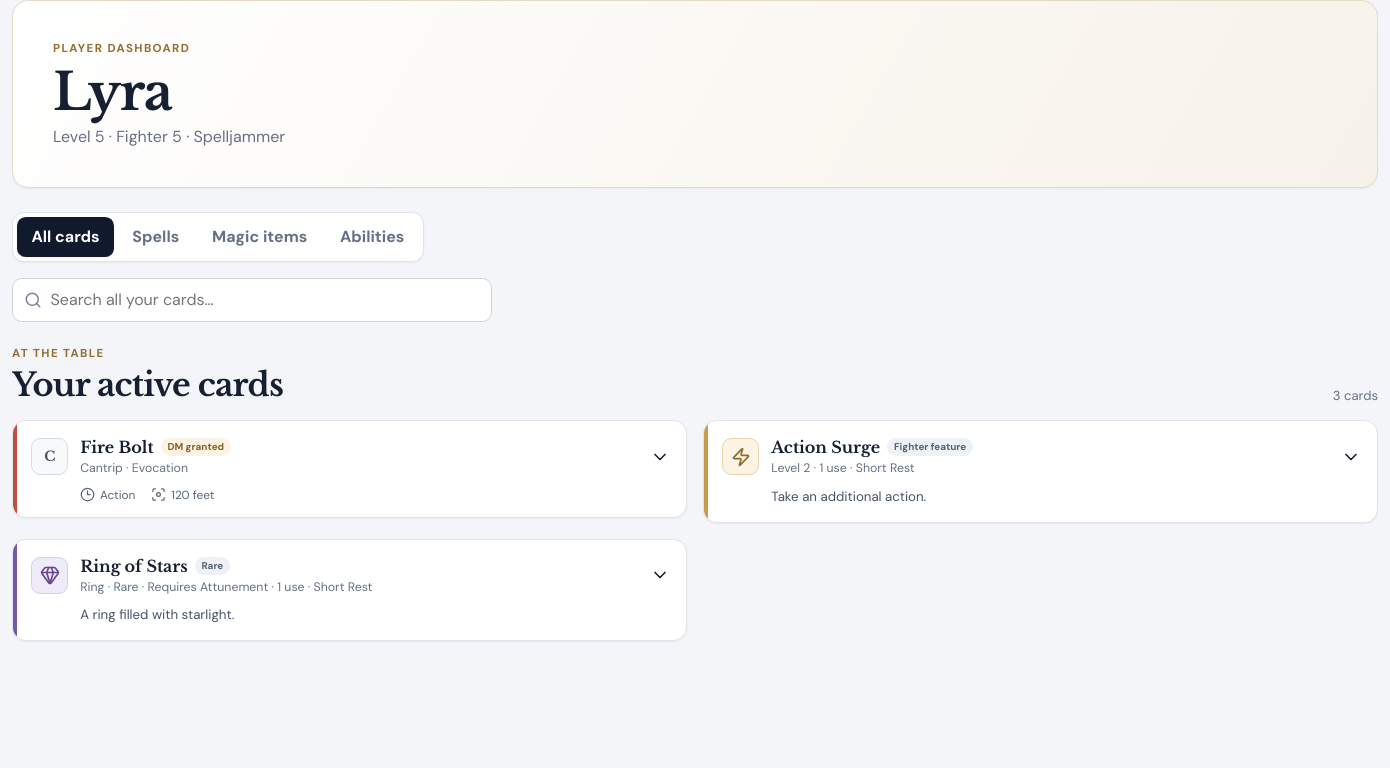
Test: PlayerDashboard card search › offers search on every card tab and filters the combined view
The width and height of the screenshot is (1390, 768).
Type "astral captain" into the field named "Search all cards" at point(252, 300), box [12,278,492,322]
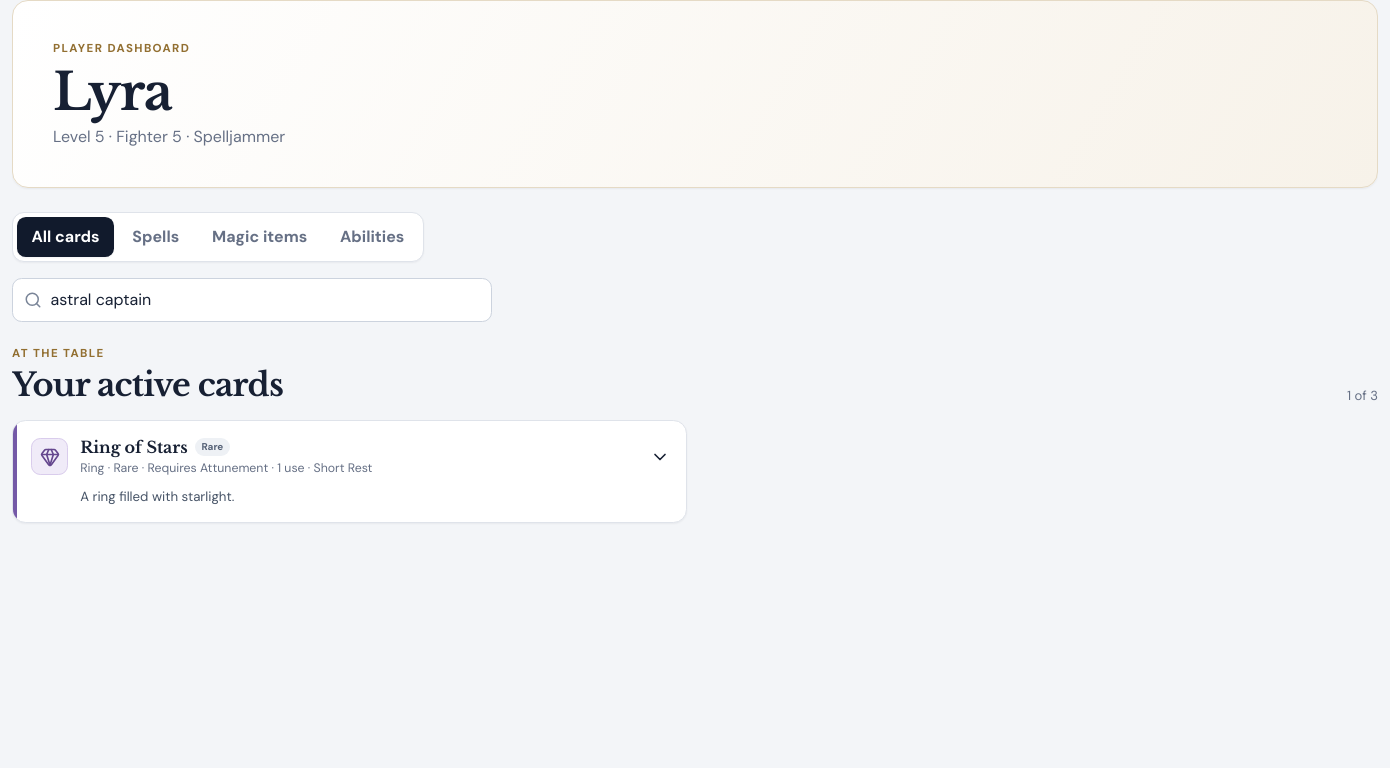
Check: the text "Ring of Stars" is shown, box [80,437,188,457]
Check: the button "Fire Bolt" is gone
Check: the button "Action Surge" is gone
Click the tab "Spells" at point(156, 237), box [118,217,194,257]
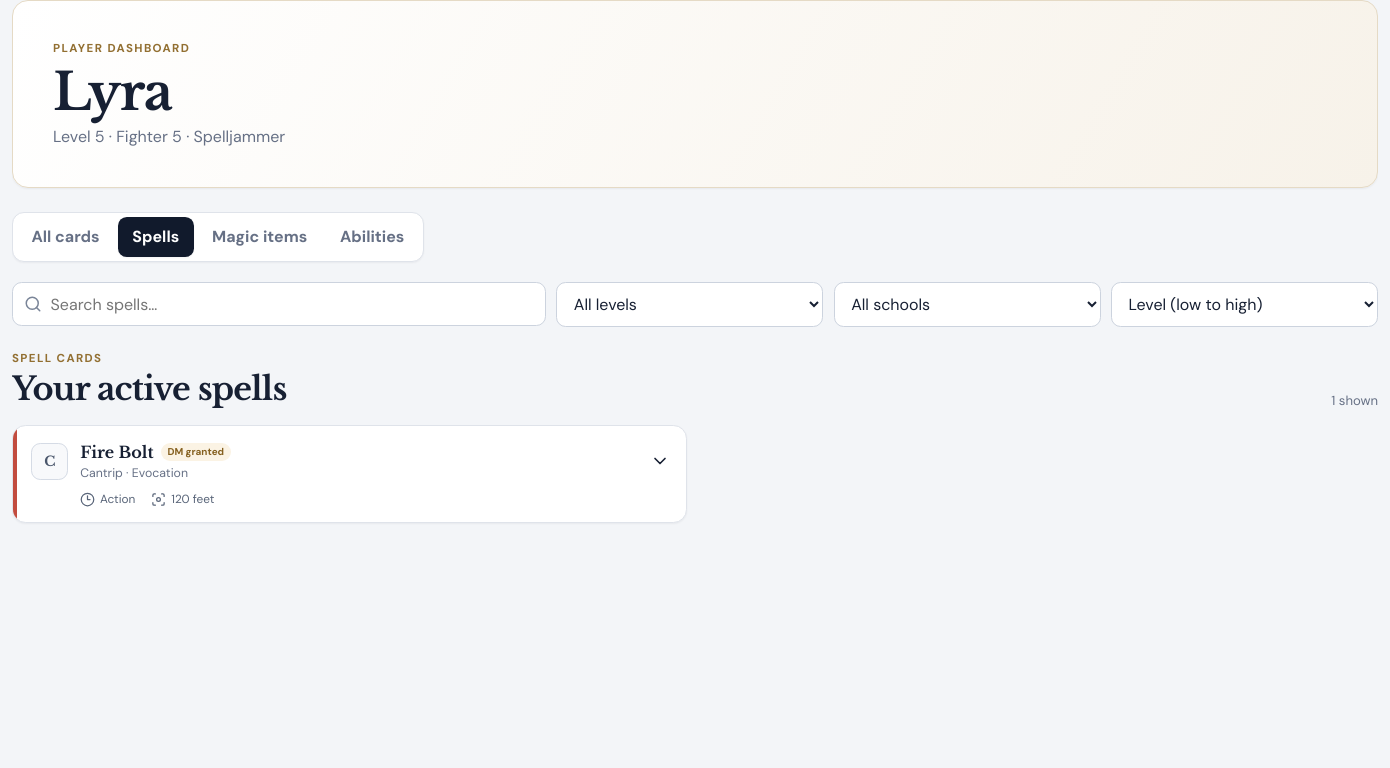
Check: the field labelled "Search spells" is shown, box [12,282,546,326]
Check: the dropdown named "Sort spells" shows "Level (low to high)", box [1111,282,1378,327]
Click the tab "Magic items" at point(260, 237), box [198,217,322,257]
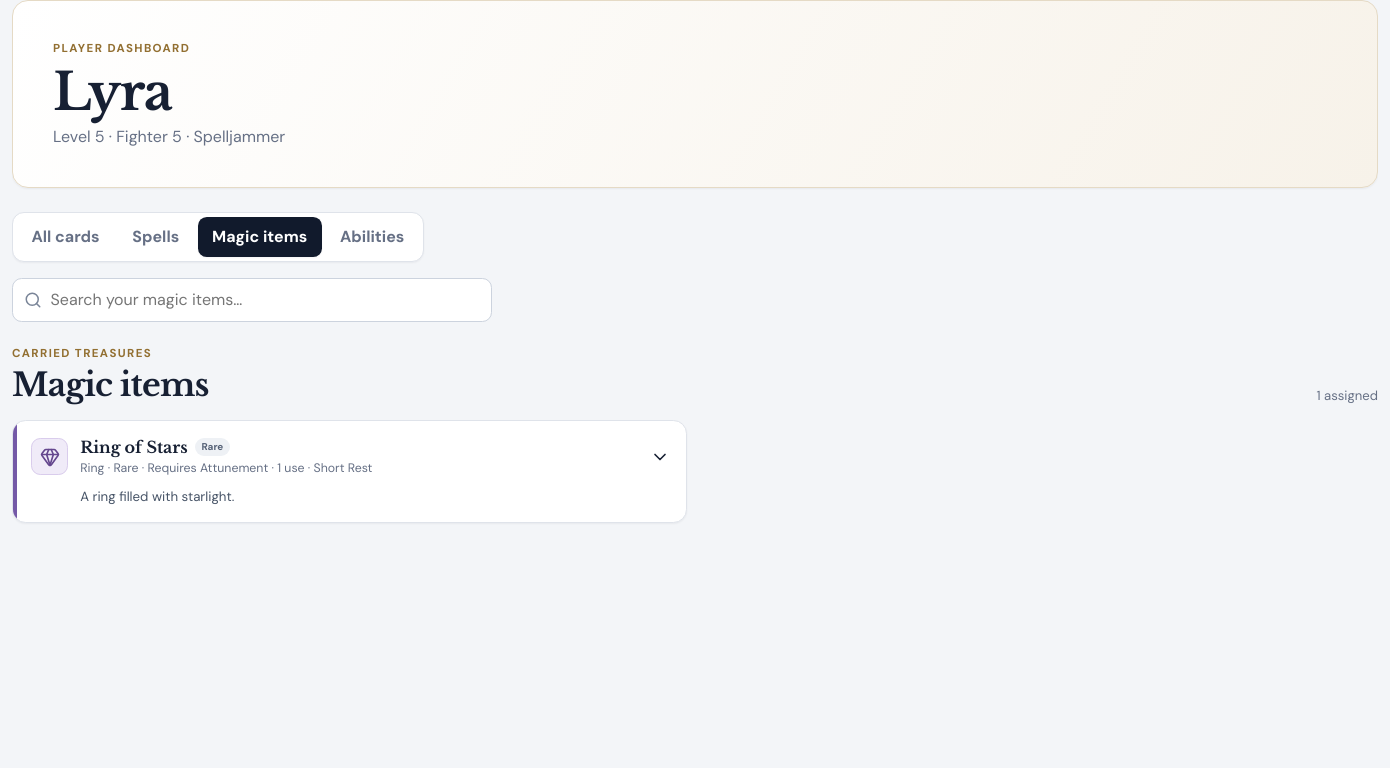
Check: the field named "Search magic items" is shown, box [12,278,492,322]
Click the tab "Abilities" at point(372, 237), box [326,217,419,257]
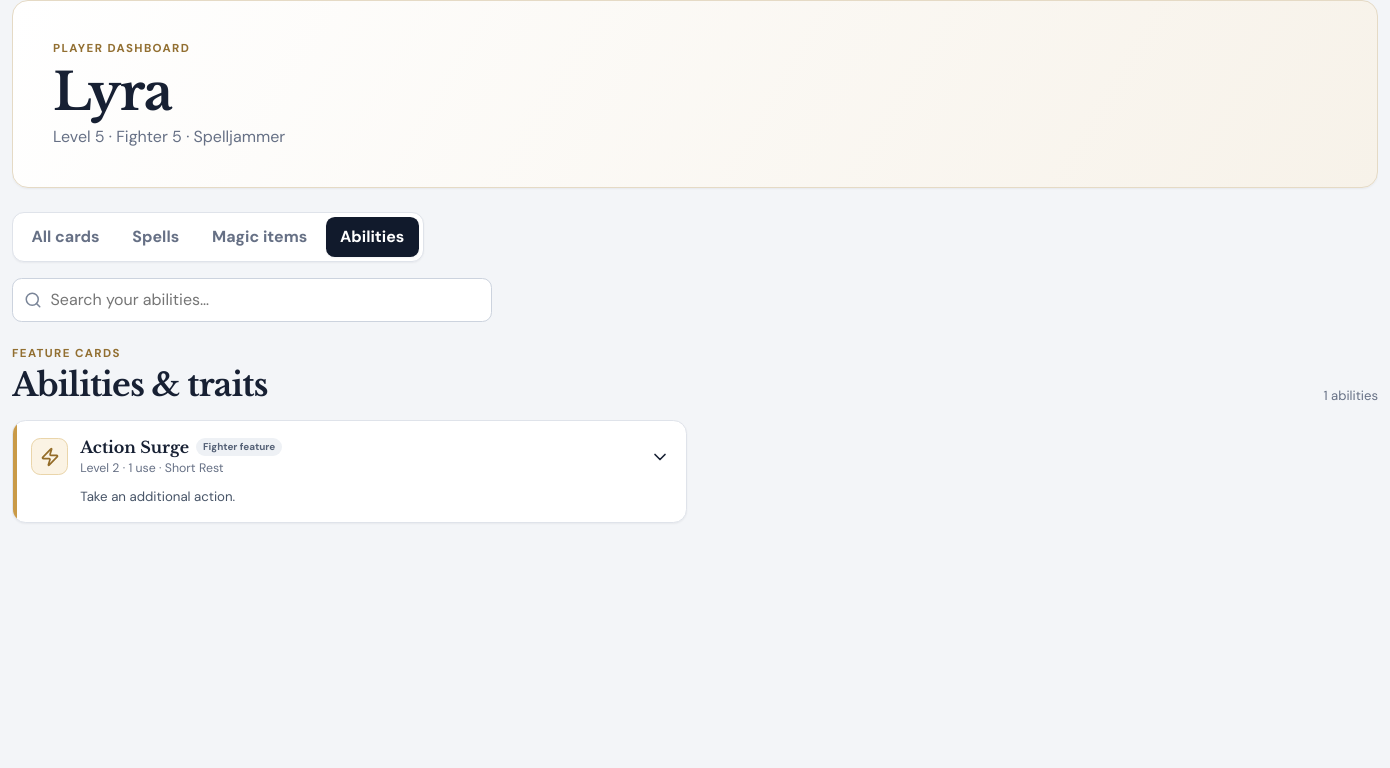
Check: the field named "Search abilities" is shown, box [12,278,492,322]
